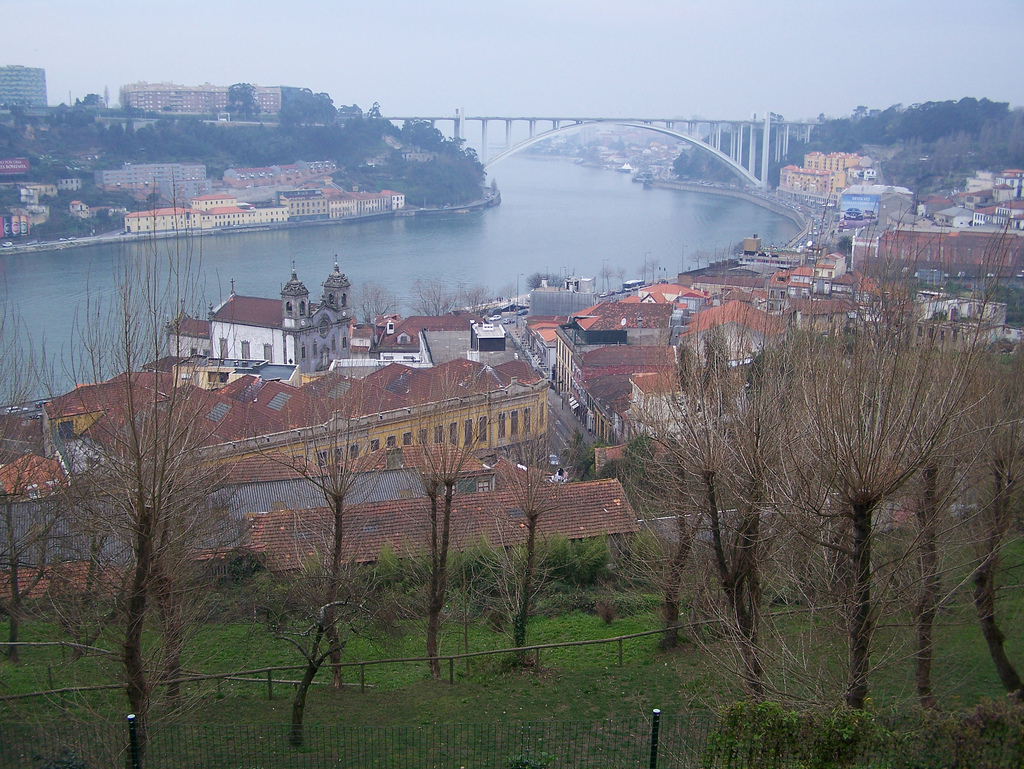arrabida: (428, 106, 825, 188)
